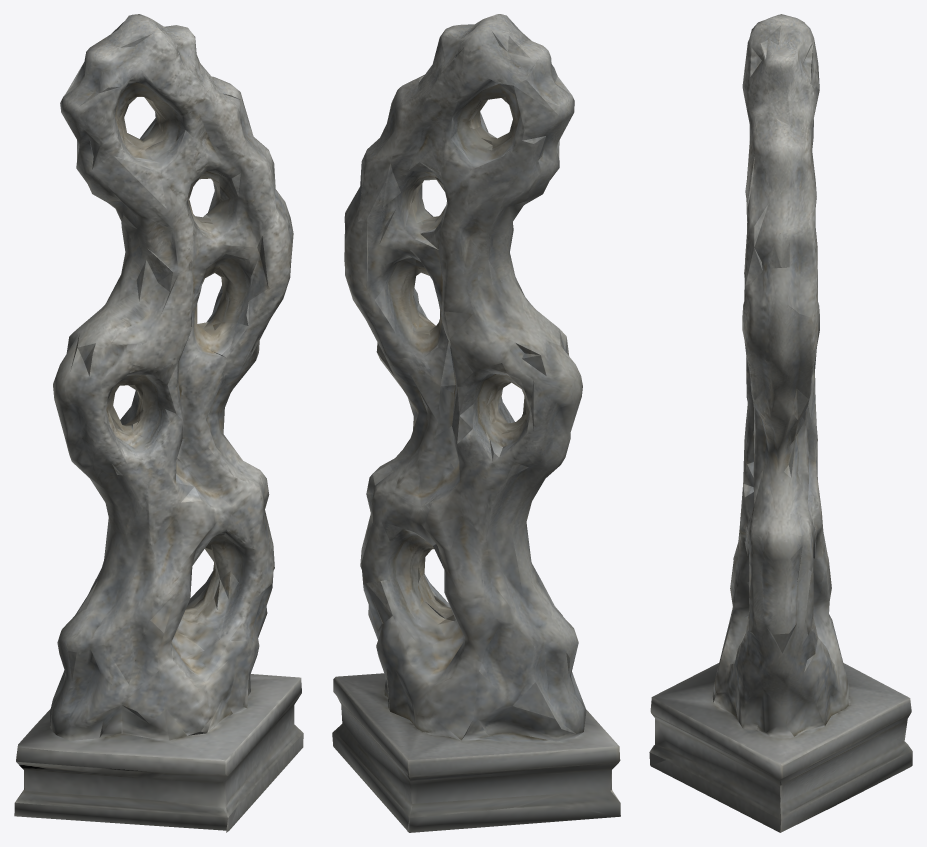
File: 02_Taihu_Standing_Stone.fbx
3 views of the same model, side by side, from view 1: azimuth 30°, elevation 25°; view 2: azimuth 150°, elevation 25°; view 3: azimuth 270°, elevation 25° (orthographic). The views are drawn at different scales.
Visible parts, largest first — view 1: 02_Taihu_Standing_Stone; view 2: 02_Taihu_Standing_Stone; view 3: 02_Taihu_Standing_Stone.
Part boxes in pixels (<box>): 02_Taihu_Standing_Stone: <box>14,14,303,832</box>; 02_Taihu_Standing_Stone: <box>332,14,620,832</box>; 02_Taihu_Standing_Stone: <box>649,14,912,832</box>.
Size of the model in its own units: 1.1 by 2.8 by 0.9.
